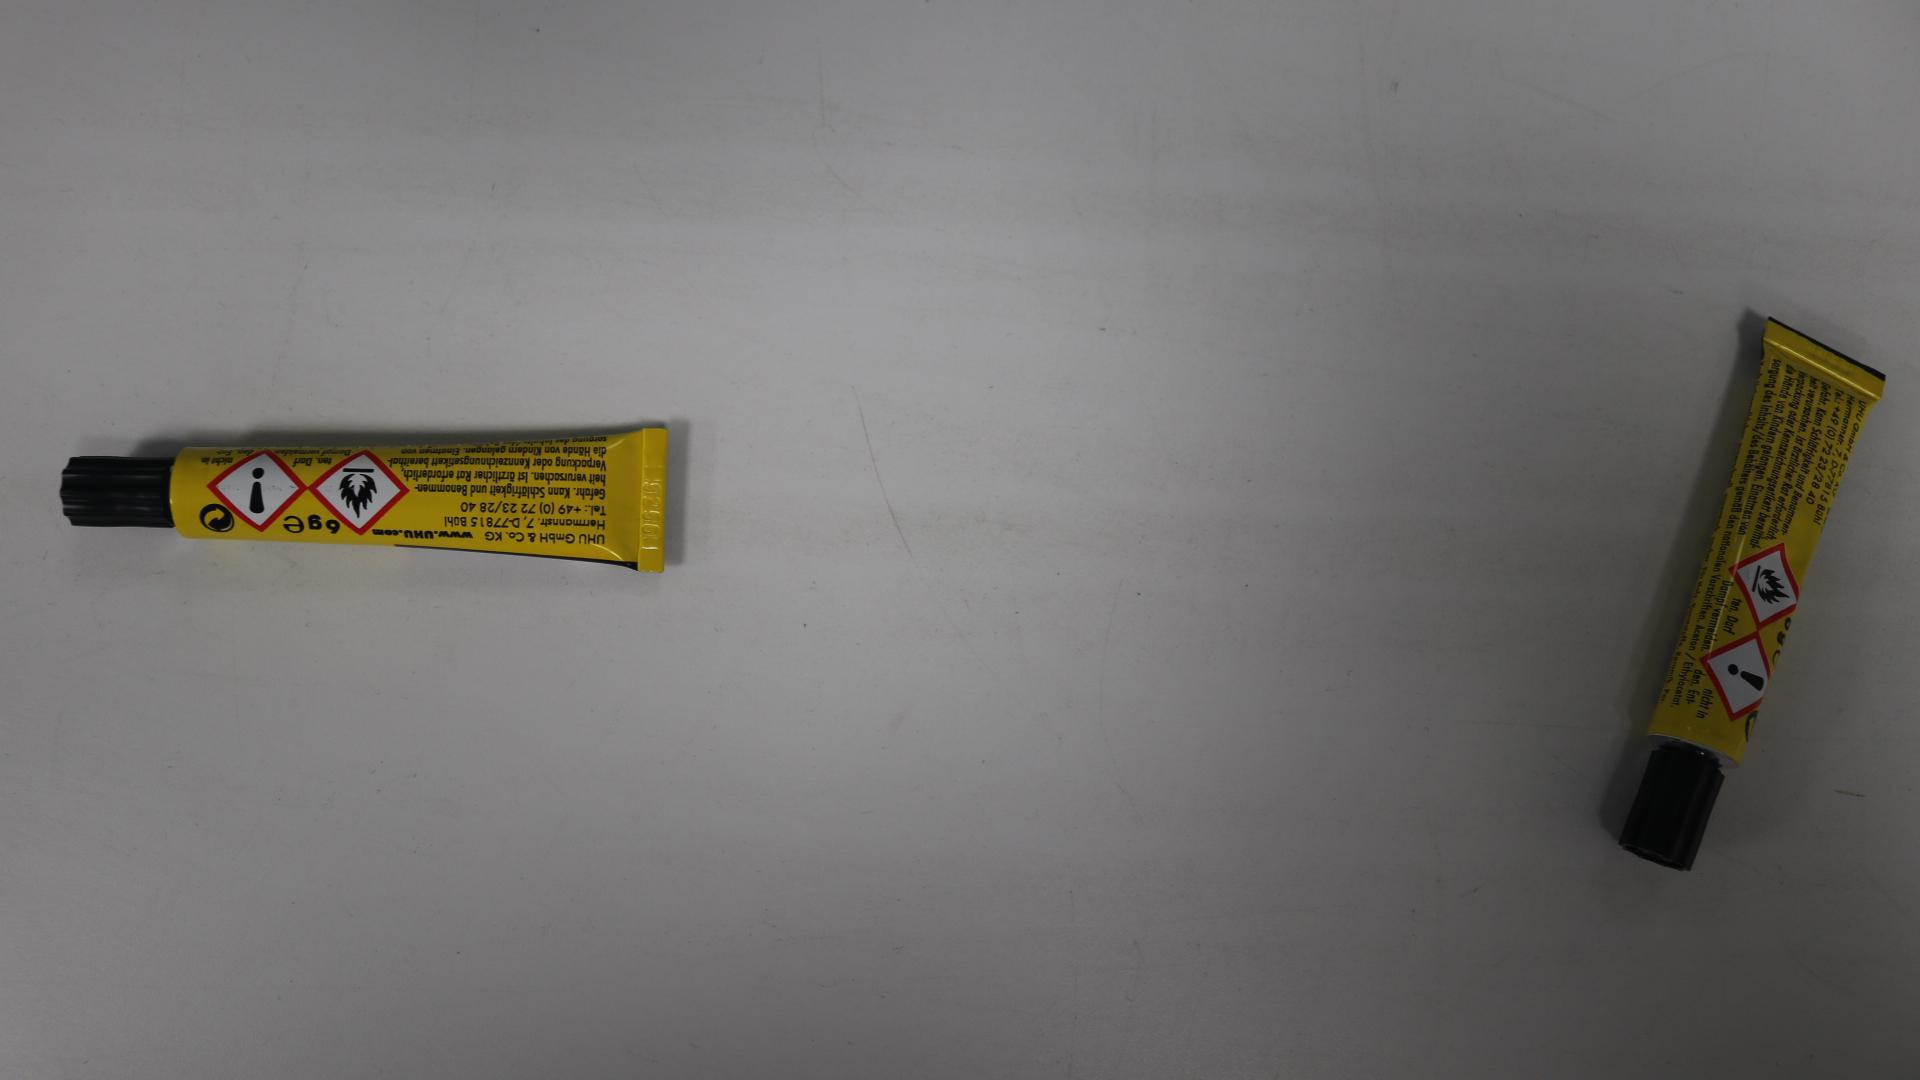Head: (104, 486, 122, 503), (1670, 794, 1683, 809)
Tail: (646, 495, 661, 518), (1821, 351, 1837, 369)
Tube: (1616, 317, 1887, 870), (60, 429, 669, 573)
